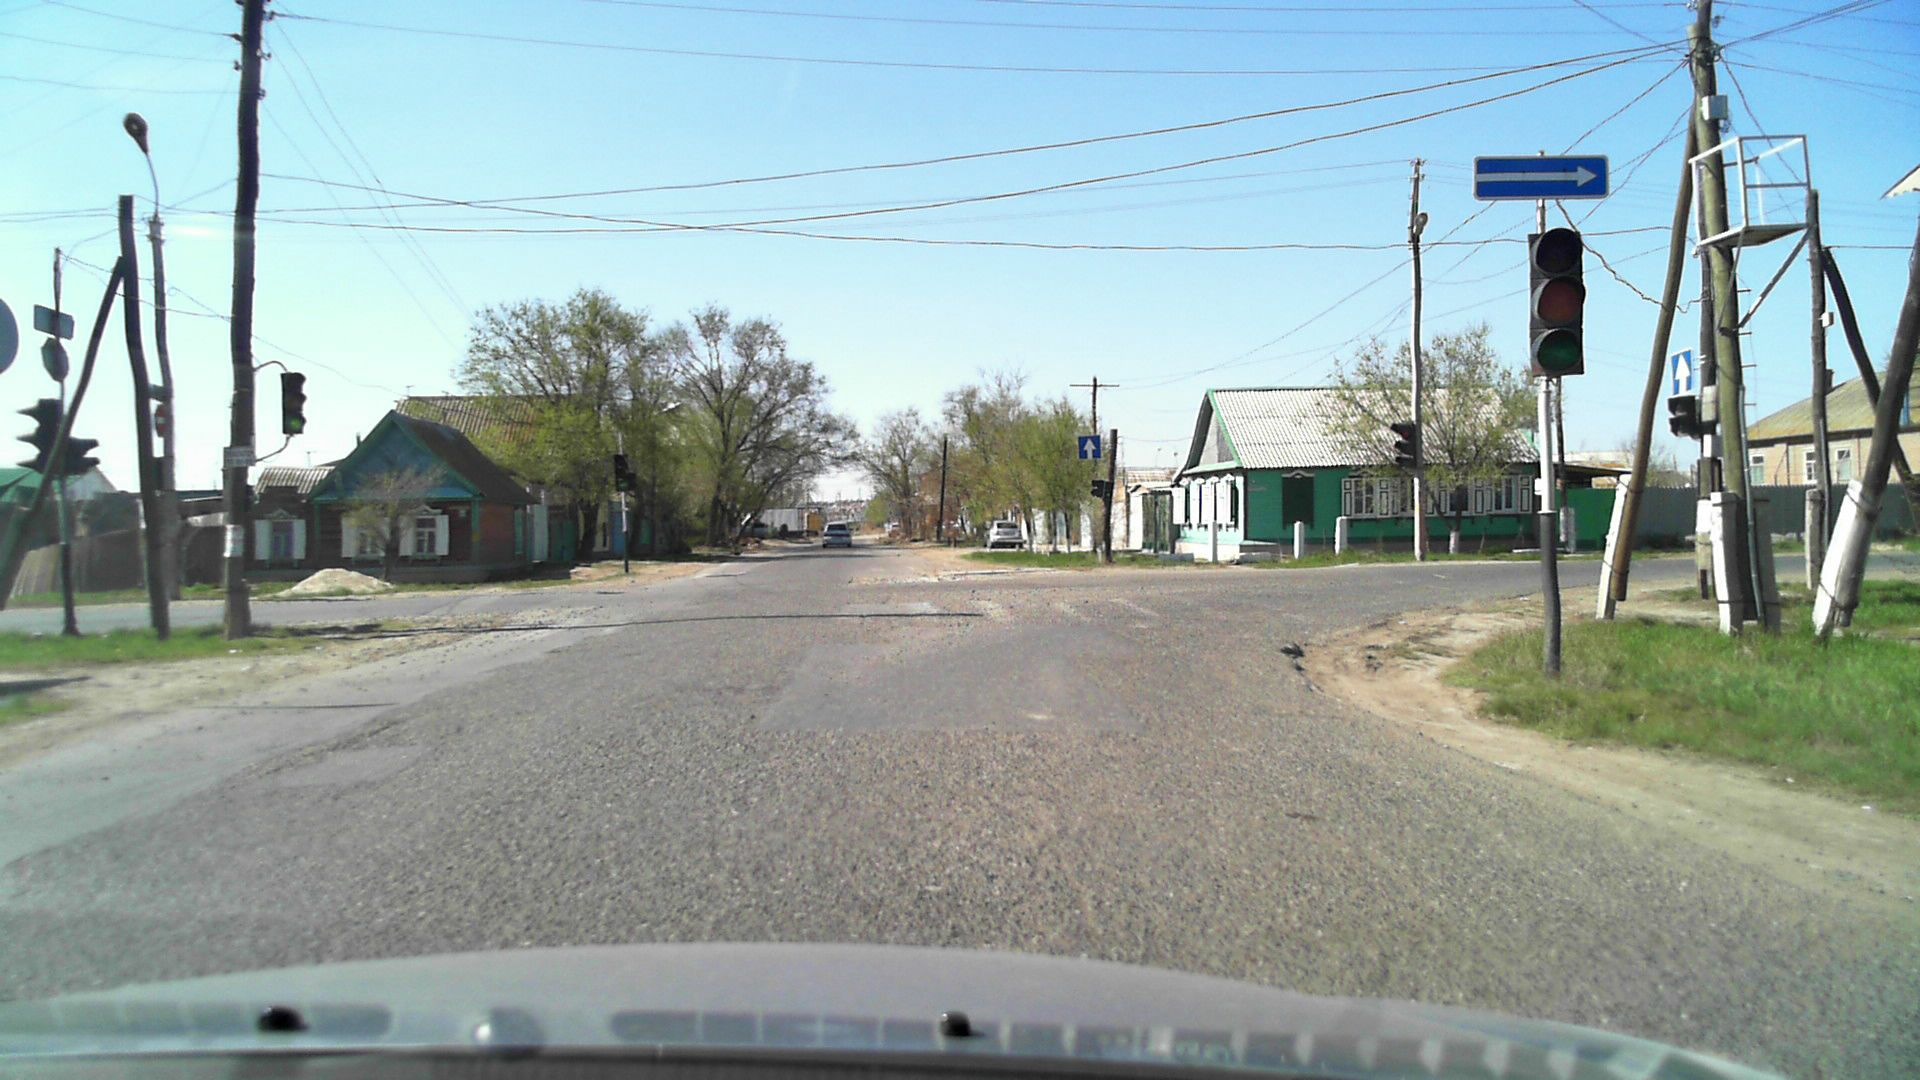One-Way Traffic: (1474, 157, 1607, 196)
